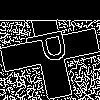P: (25, 25, 77, 67)
